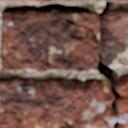brick: (1, 12, 98, 71), (104, 8, 127, 64), (0, 0, 104, 3), (116, 0, 127, 1)
broken_brick: (0, 75, 115, 127), (119, 72, 127, 127)
crack: (2, 0, 126, 127)
